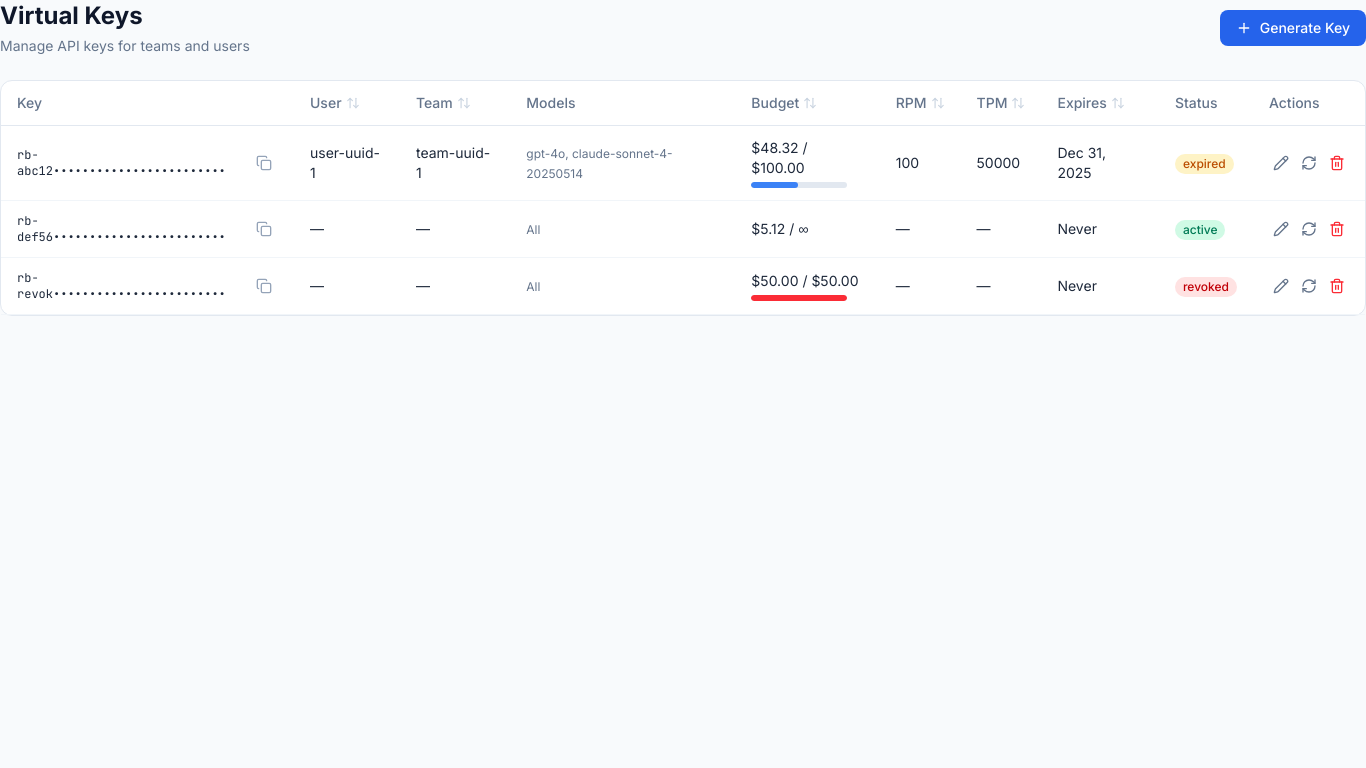
it: Keys page › opens edit modal when clicking edit button
Click the button titled "Edit" in the row of "rb-abc12••••••••••••••••••••••••".
click(1281, 163)  # box 1269,151 -> 1293,175
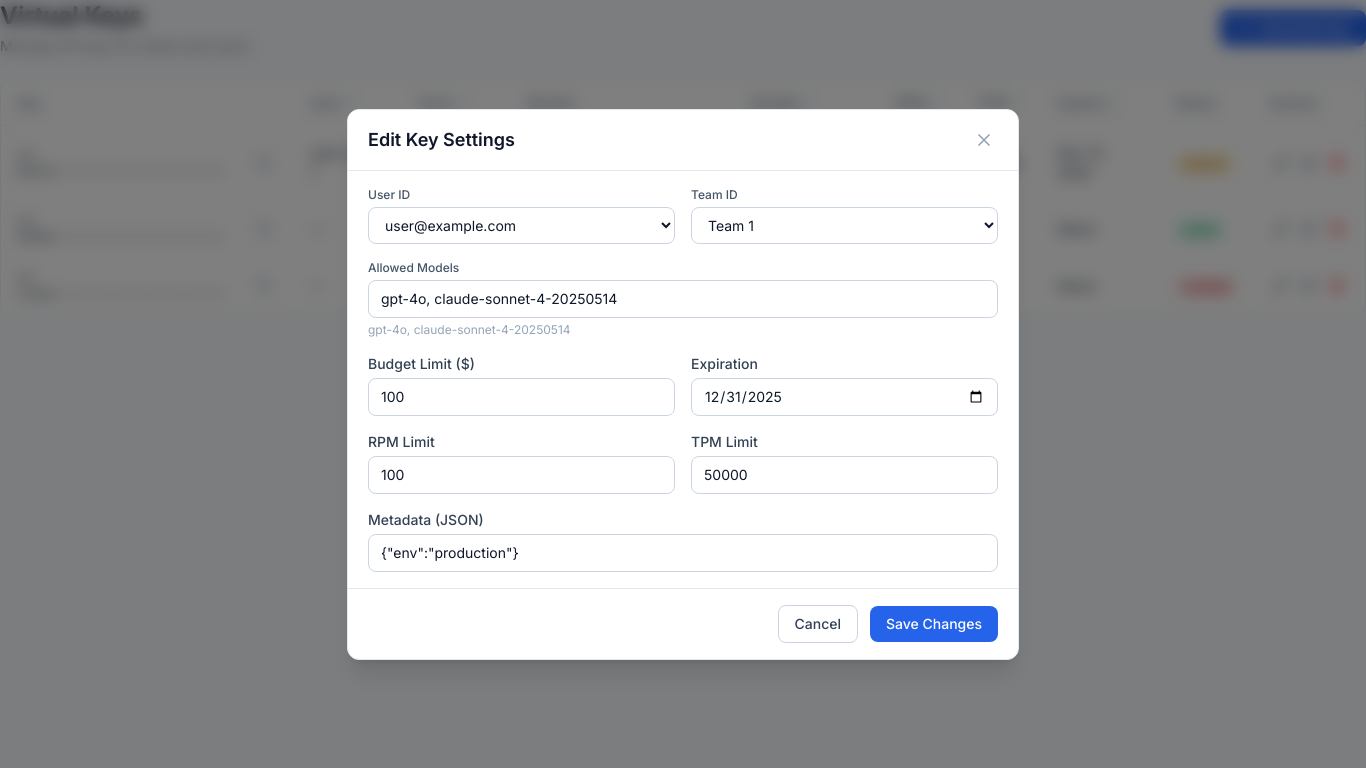
Check: the heading "Edit Key Settings" is shown, box 368,126 -> 515,154
Check: the dropdown labelled "User ID" shows "user@example.com", box 368,206 -> 675,244
Check: the dropdown labelled "Team ID" shows "Team 1", box 691,206 -> 998,244
